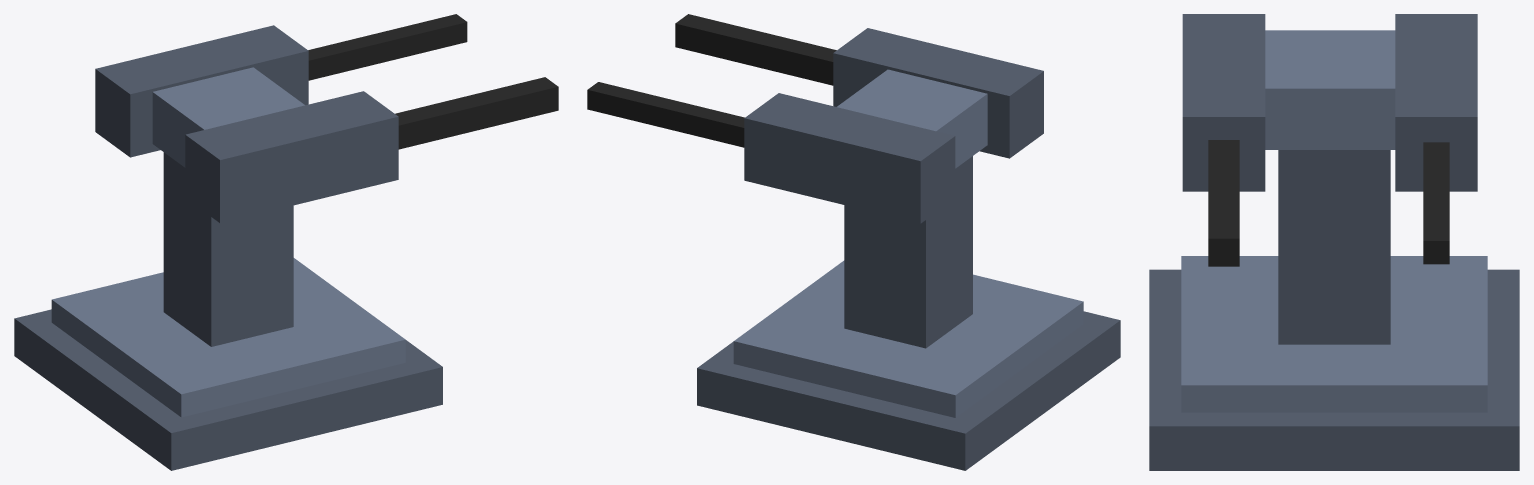
Rendered from Tower3.fbx.
The picture shows the model from 3 angles, left to right: view 1: azimuth 30°, elevation 25°; view 2: azimuth 150°, elevation 25°; view 3: azimuth 270°, elevation 25°; orthographic projection. The views are drawn at different scales.
Parts seen in each view (by area): view 1: Cube, Cube.001, Cube.002; view 2: Cube, Cube.002, Cube.001; view 3: Cube, Cube.001, Cube.002.
Part boxes in pixels (x1,y1,x2,y2): Cube: (14, 67, 442, 470); Cube.001: (185, 77, 558, 223); Cube.002: (95, 14, 467, 157); Cube: (697, 69, 1120, 470); Cube.002: (587, 82, 955, 223); Cube.001: (675, 14, 1043, 158); Cube: (1149, 30, 1519, 470); Cube.001: (1182, 14, 1265, 266); Cube.002: (1395, 14, 1477, 264).
Bounding box in the file's own units: 303 × 200 × 200.
